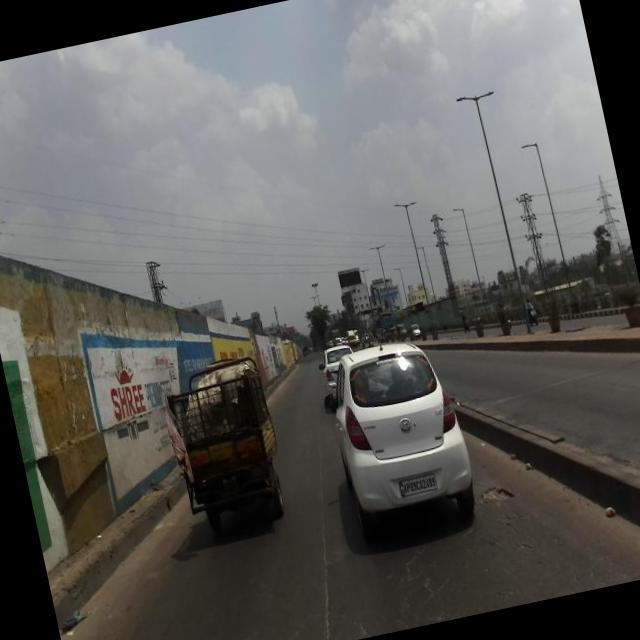pothole: (476, 454, 530, 546)
